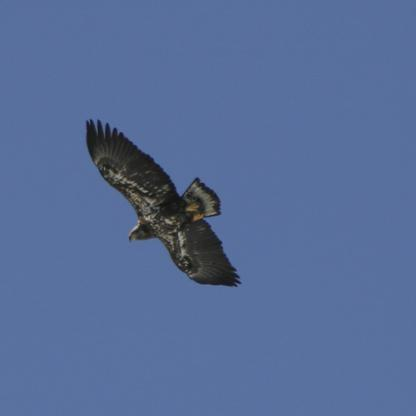bird: (86, 118, 240, 288)
